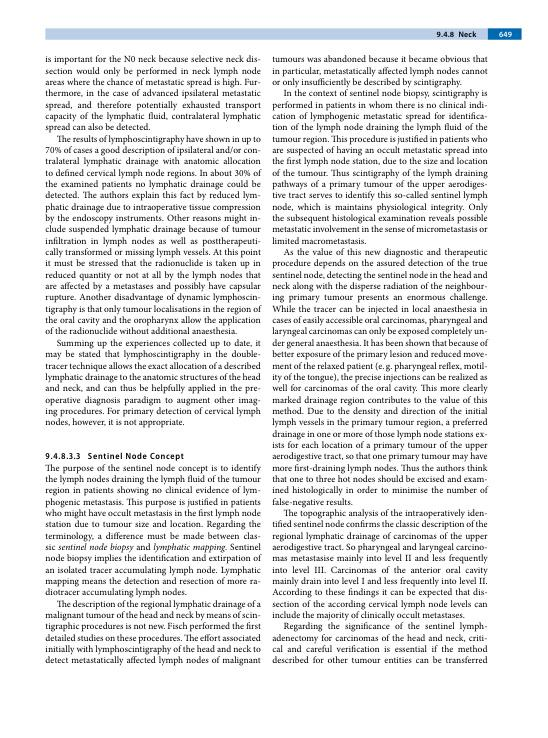header: (458, 30, 477, 38)
sub-section-heading: (87, 451, 185, 462)
text: (271, 54, 489, 665), (44, 54, 262, 429), (44, 463, 262, 667)
